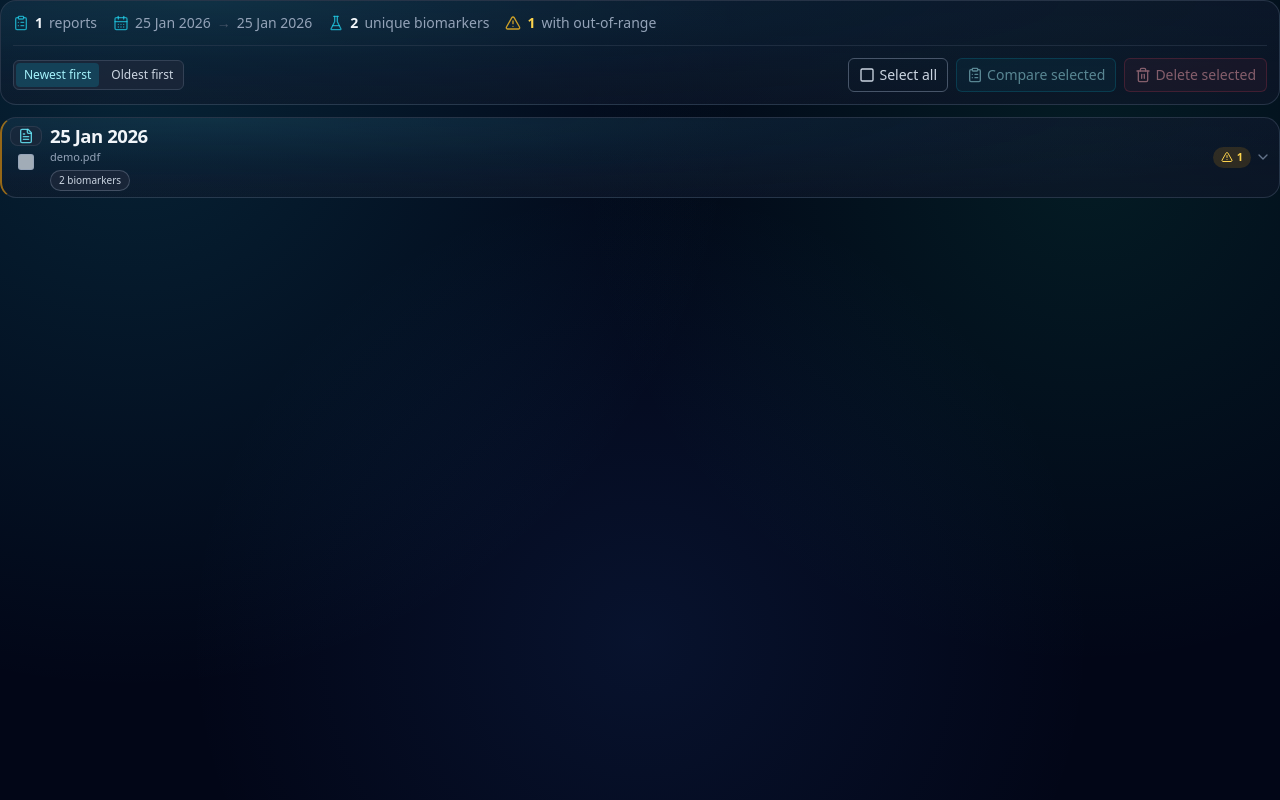
Test: ReportsView alert logic › expands the report when clicking the alert badge
The image size is (1280, 800).
Click the element named "Out-of-range biomarkers in this report" at {"x": 1232, "y": 157}, box 1213,147 -> 1251,168
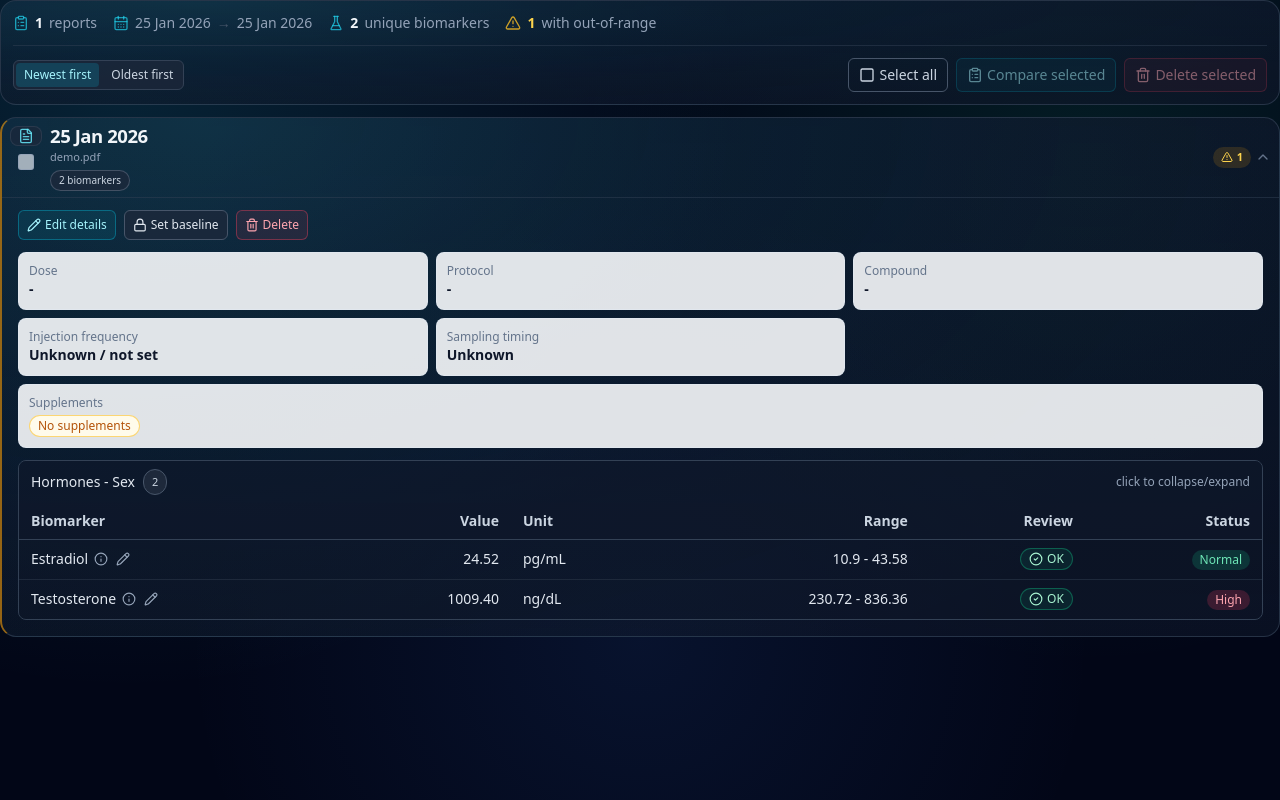
Now the button "Edit details" is shown, box 18,210 -> 116,240
